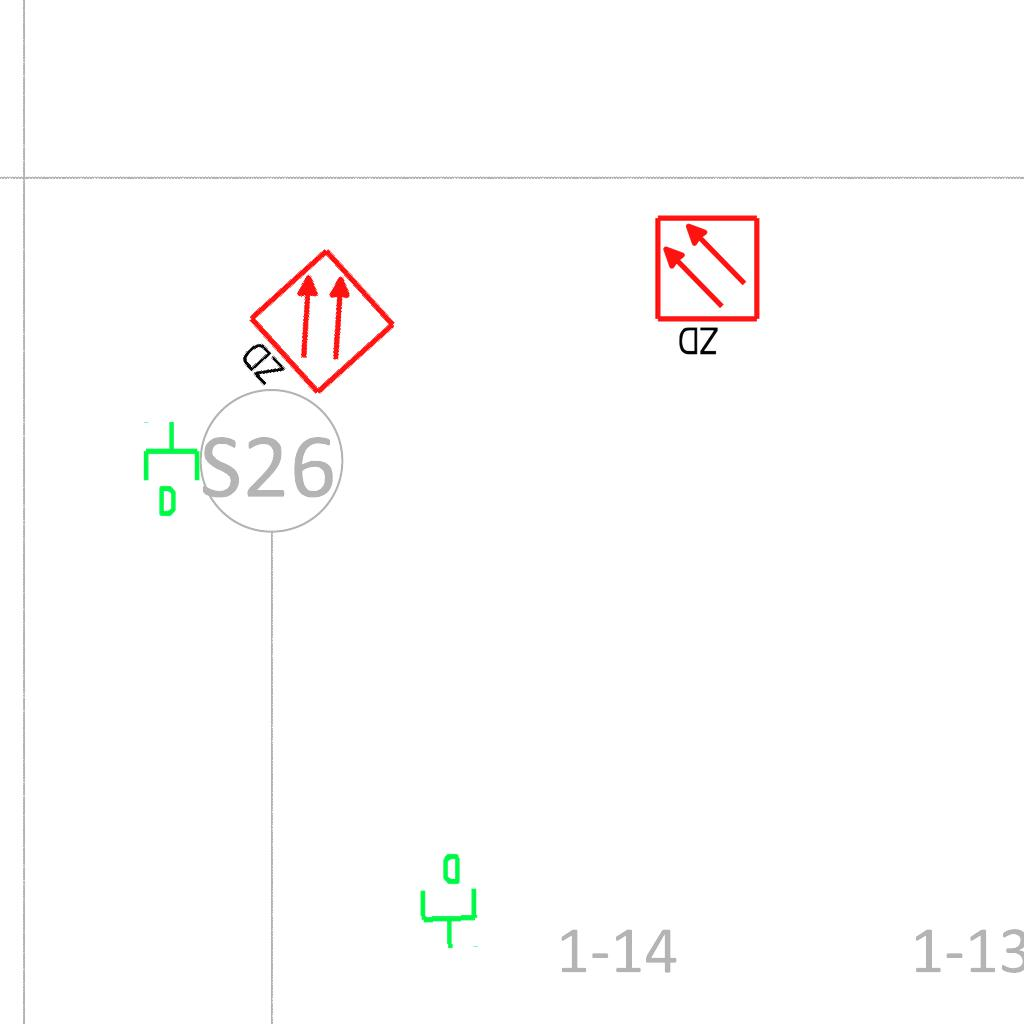Datenanschluss_einfach: (410, 849, 483, 953), (139, 419, 208, 519)
ZD_Melder_in_Zwischendecke_mit_Revisionsoeffnung_mind_40_x_40_cm: (215, 243, 403, 428), (652, 213, 766, 362)
